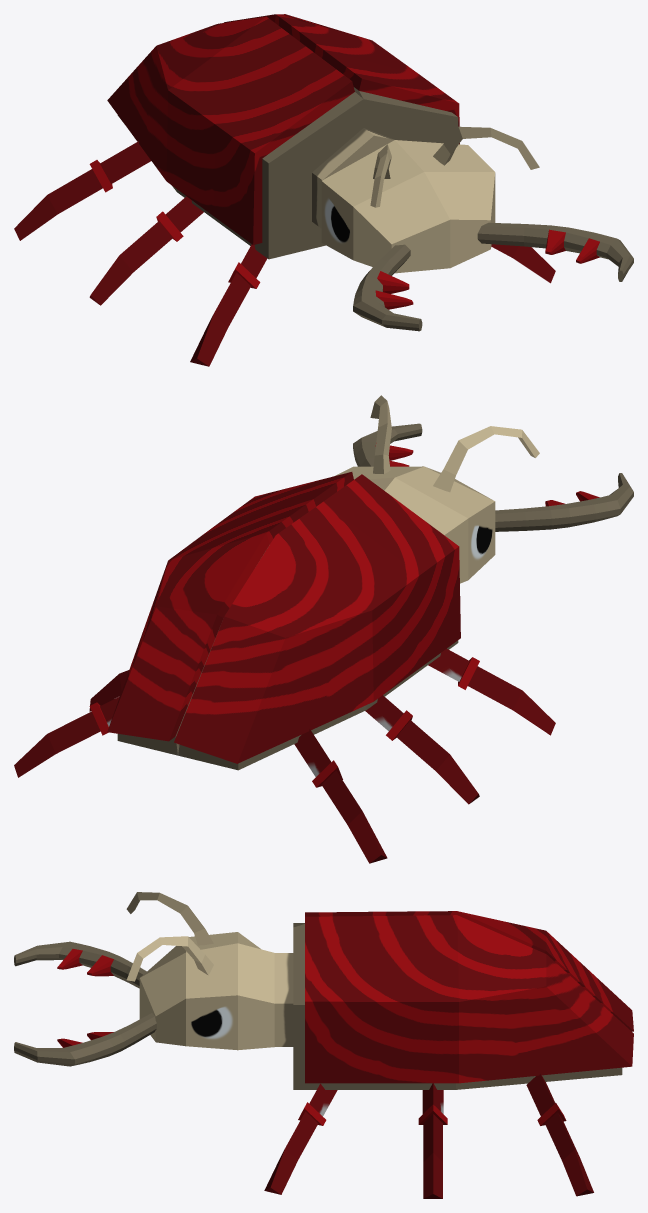
Rendered from Buggo1.glb.
The picture shows the model from 3 angles, top to bottom: view 1: azimuth 30°, elevation 25°; view 2: azimuth 150°, elevation 25°; view 3: azimuth 270°, elevation 25°; orthographic projection. The views are drawn at different scales.
Visible parts, largest first — view 1: Body, MandibleL, LegR3, MandibleR, LegR2, LegR1, LegL1; view 2: Body, MandibleR, LegR3, LegR2, LegR1, LegL3, MandibleL; view 3: Body, MandibleL, MandibleR, LegL3, LegL2, LegL1.
Boxes of the visible parts, <box> form: Body: <box>107,14,539,273</box>; MandibleL: <box>477,222,633,281</box>; LegR3: <box>14,141,150,240</box>; MandibleR: <box>353,244,422,331</box>; LegR2: <box>89,196,203,305</box>; LegR1: <box>190,244,267,366</box>; LegL1: <box>491,244,555,283</box>; Body: <box>107,395,539,770</box>; MandibleR: <box>495,473,633,531</box>; LegR3: <box>294,729,387,863</box>; LegR2: <box>365,695,479,804</box>; LegR1: <box>428,648,555,735</box>; LegL3: <box>14,696,119,777</box>; MandibleL: <box>353,423,422,466</box>; Body: <box>126,892,633,1089</box>; MandibleL: <box>14,1013,156,1066</box>; MandibleR: <box>14,941,146,988</box>; LegL3: <box>526,1073,593,1196</box>; LegL2: <box>418,1083,447,1198</box>; LegL1: <box>264,1083,337,1194</box>.
Bounding box in the file's own units: 3.26 × 1.84 × 5.08.
1 material, 1 textured.
